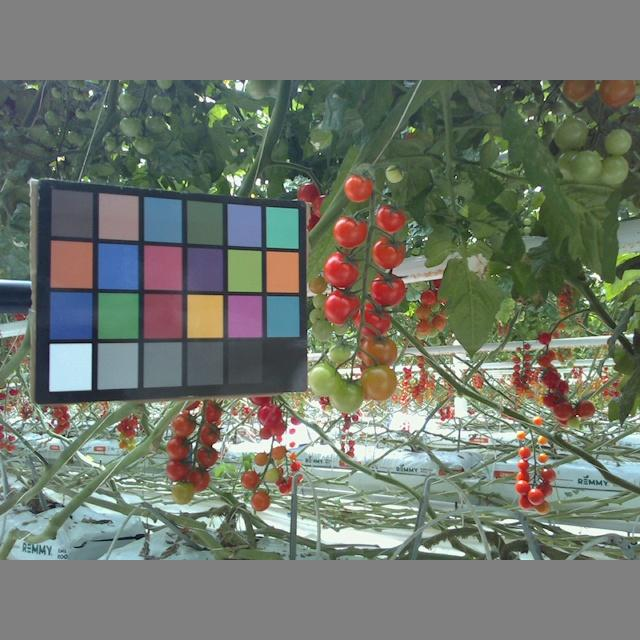green: (550, 115, 590, 151), (324, 288, 362, 325), (566, 148, 602, 184), (307, 360, 341, 397), (332, 381, 368, 413), (596, 153, 630, 185), (603, 129, 632, 156), (326, 338, 350, 363), (167, 481, 192, 504), (383, 164, 404, 187)
pink: (361, 364, 397, 402), (359, 336, 397, 371), (600, 81, 639, 109), (343, 176, 376, 203), (563, 81, 598, 103), (249, 488, 271, 514), (242, 468, 260, 492)
red: (323, 252, 361, 291), (352, 304, 393, 339), (369, 273, 406, 308), (331, 216, 370, 249), (370, 239, 406, 268), (375, 204, 408, 235), (163, 433, 190, 460), (255, 401, 283, 426), (184, 468, 211, 493), (168, 412, 195, 436), (165, 456, 191, 480), (196, 421, 220, 446), (195, 443, 217, 469), (200, 401, 223, 422)
